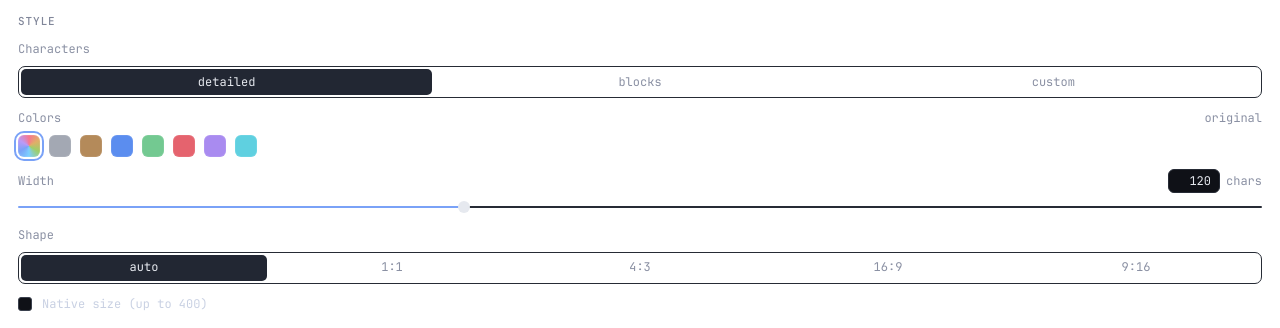
Test: StylePanel width › puts the width back when the box is left empty or Escape is pressed
Clear the number field named "Width in characters" at [1194, 181], box [1168,169,1220,193]
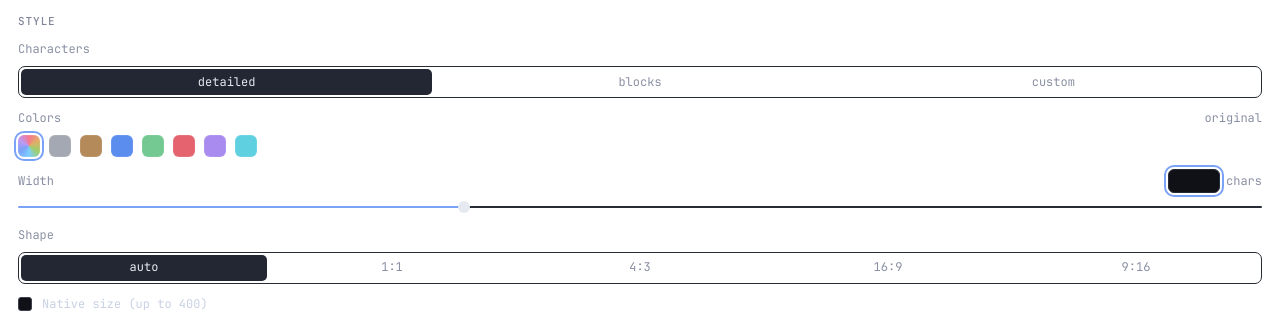
Press Tab
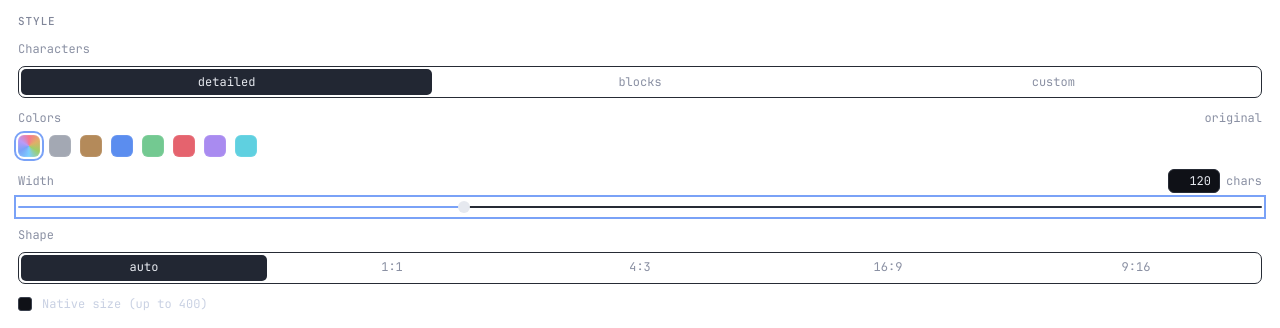
Check: the number field named "Width in characters" holds "120"
Type "9" into the number field named "Width in characters" at [1194, 181], box [1168,169,1220,193]
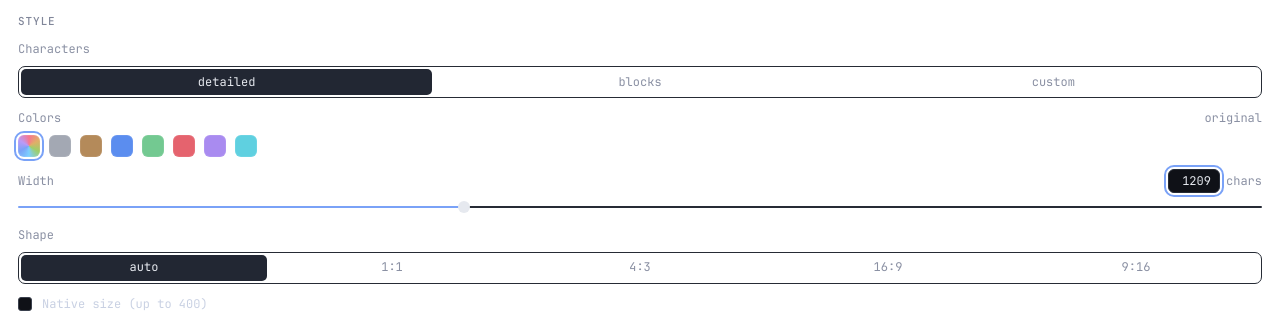
Press Escape
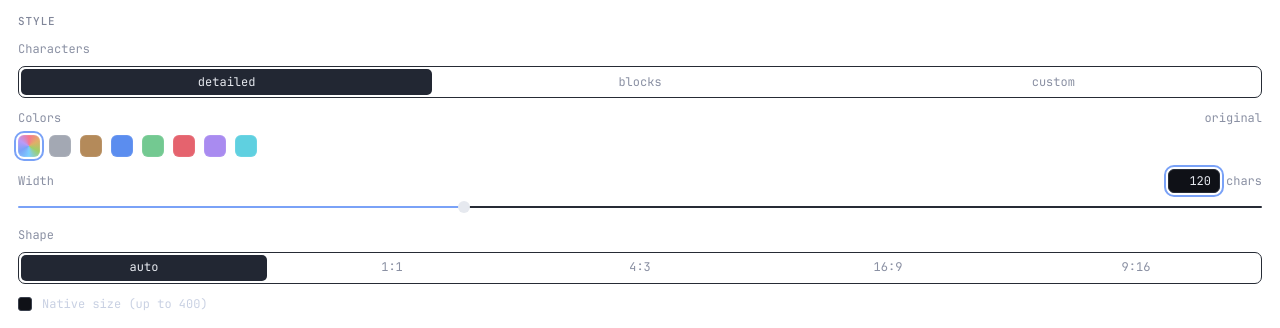
Check: the number field named "Width in characters" holds "120", box [1168,169,1220,193]
